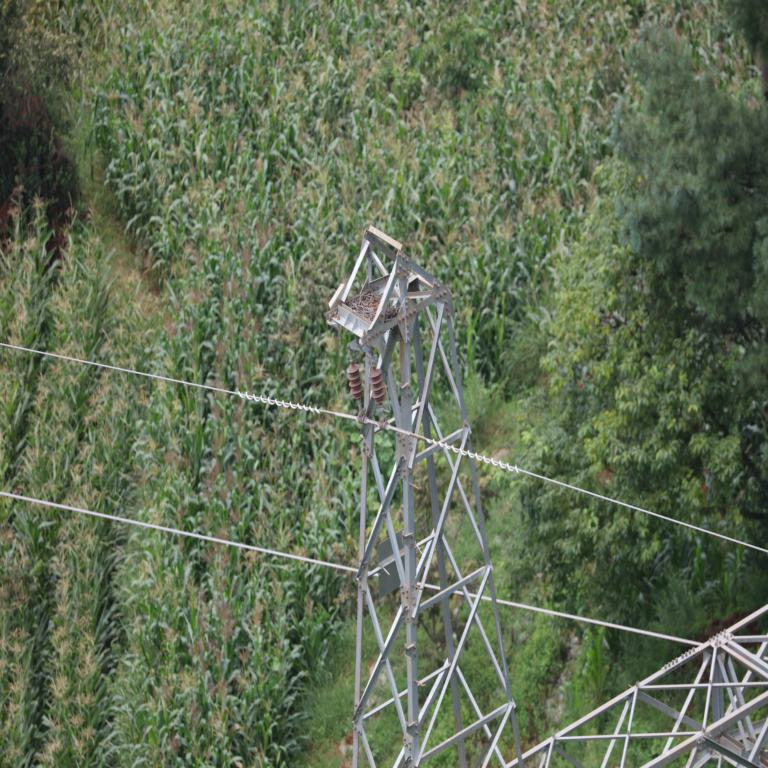nest: (348, 292, 398, 323)
